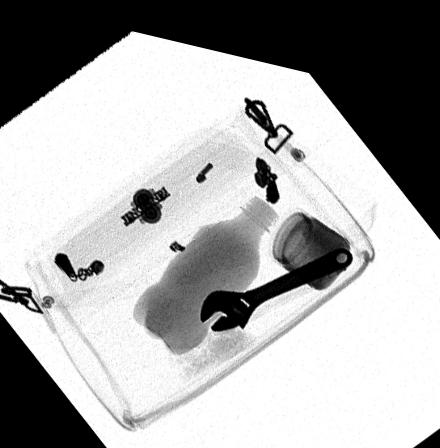Wrench: (196, 229, 352, 322)
